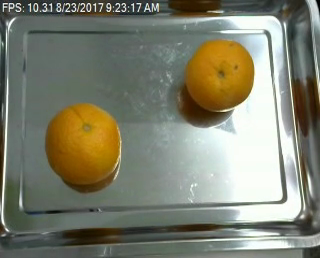Orange: (44, 102, 122, 185), (183, 39, 254, 113)
